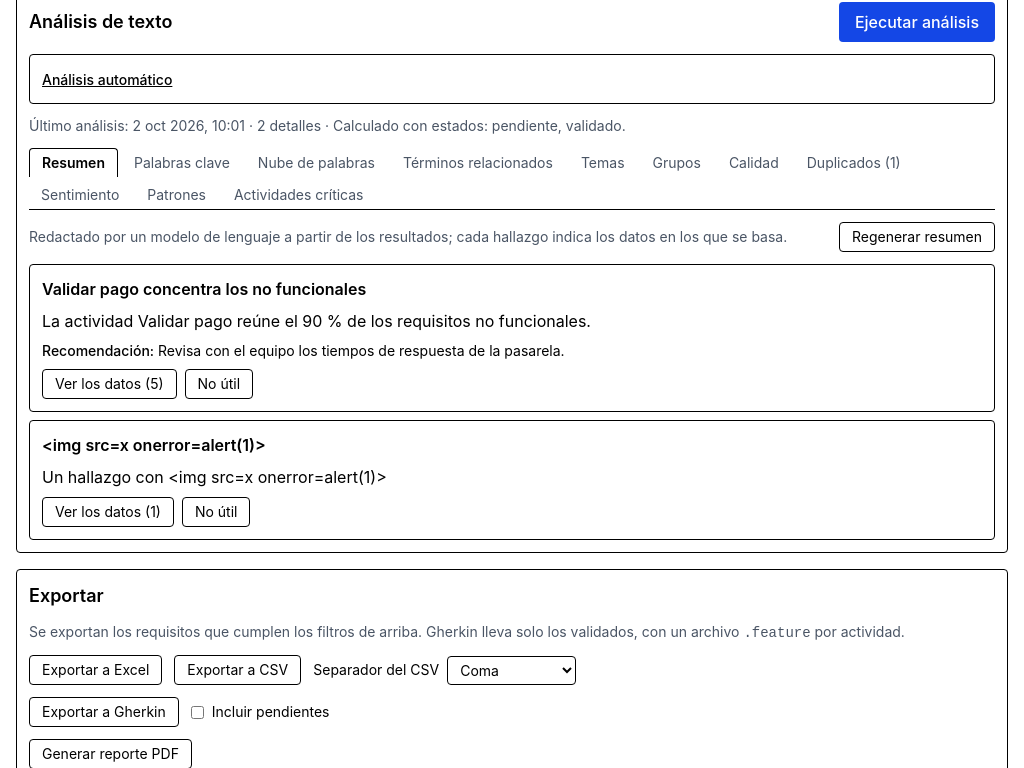
resumen de hallazgos › «Ver los datos» muestra las evidencias con los datos reales del análisis
(page scrolled)
Expected: the tab "Resumen" is shown, [29,148,118,177]
What coordinates should you click on to do the following:
click the button "Ver los datos (5)"
I would click on:
 (109, 384)
Its box is [42,369,177,399].
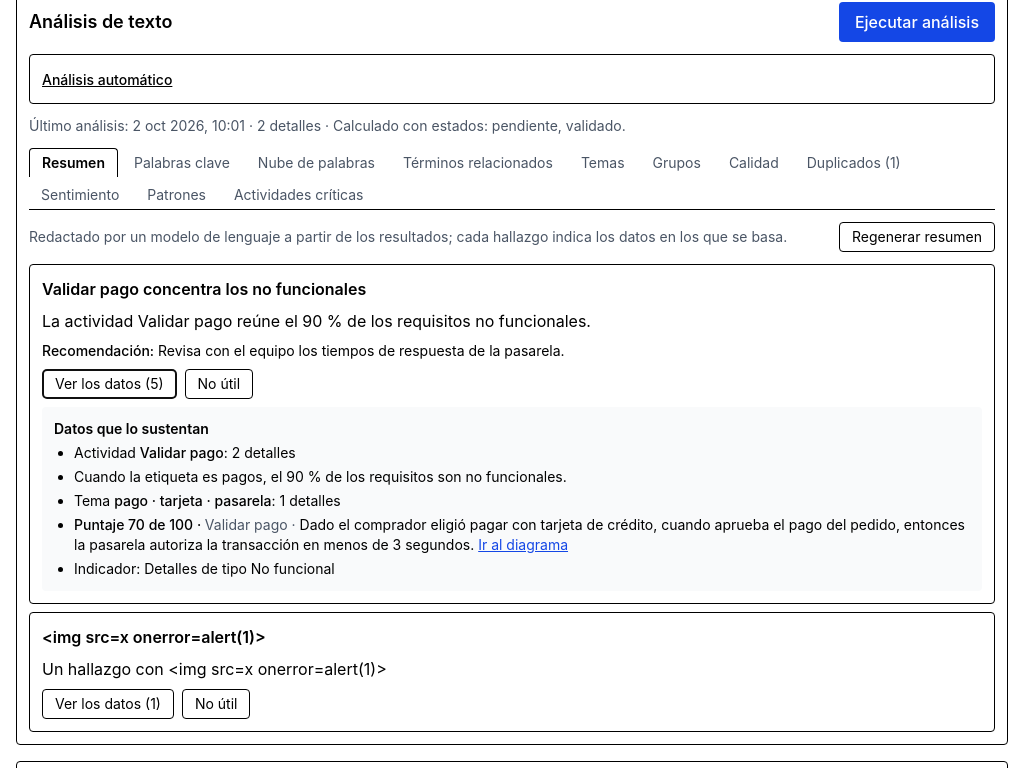
Now the element showing "Actividad Validar pago: 2 detalles" is shown, box [74,444,296,461]
Now the element showing "Tema pago · tarjeta · pasarela: 1 detalles" is shown, box [74,492,341,509]
Now the text "Indicador: Detalles de tipo No funcional" is shown, box [74,560,335,577]
